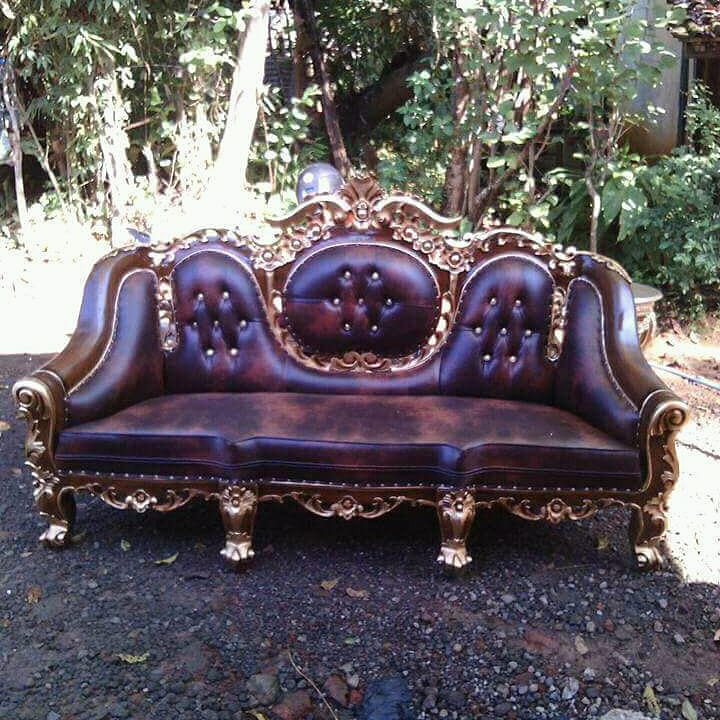Carving Chair: (44, 207, 689, 588)
